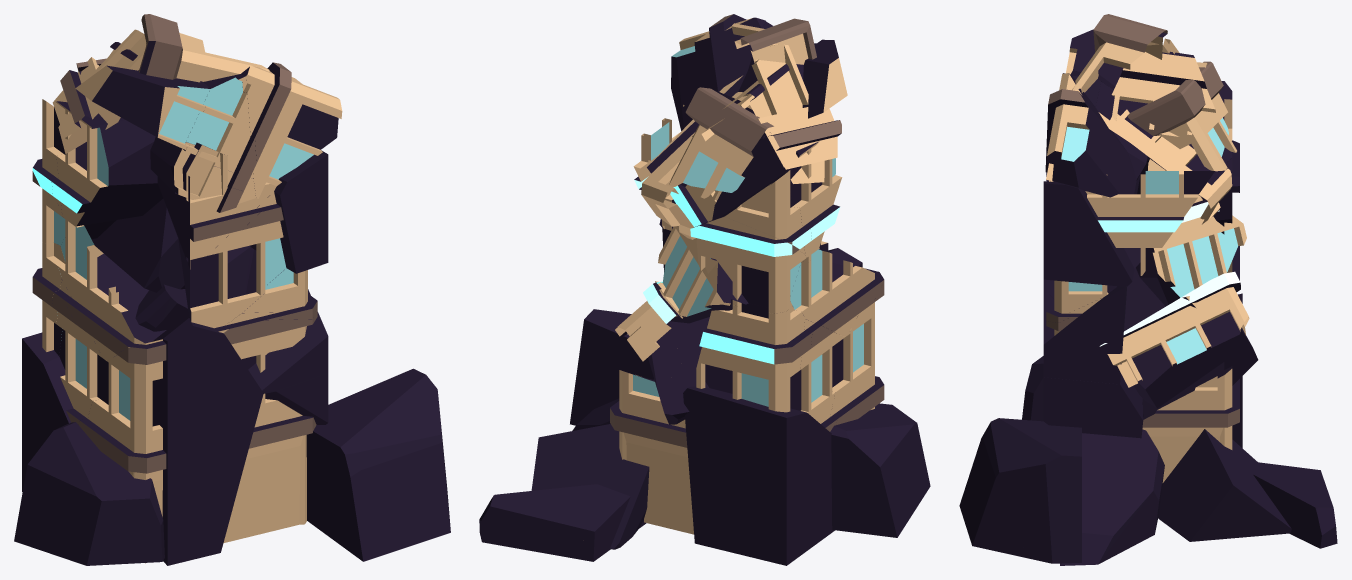
Rendered from Building3.fbx.
3 renders of one model, left to right at view 1: azimuth 30°, elevation 25°; view 2: azimuth 150°, elevation 25°; view 3: azimuth 270°, elevation 25°, orthographic. The views are drawn at different scales.
Visible parts, largest first — view 1: Stand Destroy; view 2: Stand Destroy; view 3: Stand Destroy.
Boxes of the visible parts, left/top/right/bottom form: Stand Destroy: left=14, top=14, right=450, bottom=565; Stand Destroy: left=479, top=14, right=930, bottom=565; Stand Destroy: left=959, top=14, right=1337, bottom=565.
Bounding box in the file's own units: 873 × 1092 × 850.
